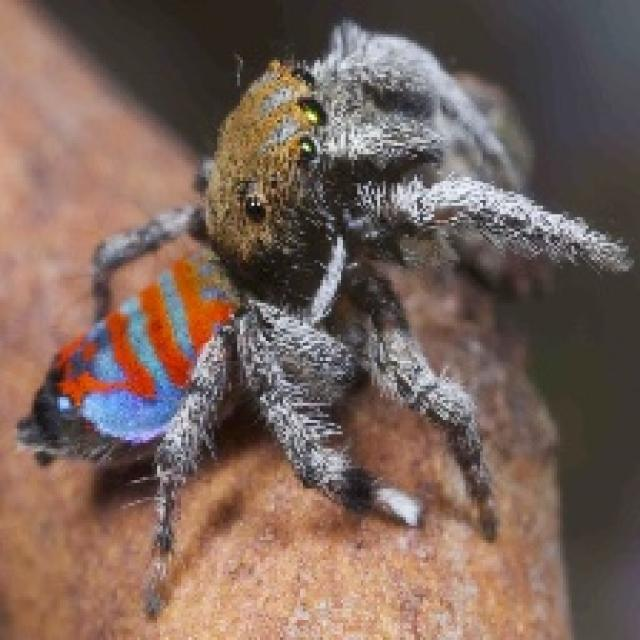Non venomous spider: (59, 35, 597, 550)
